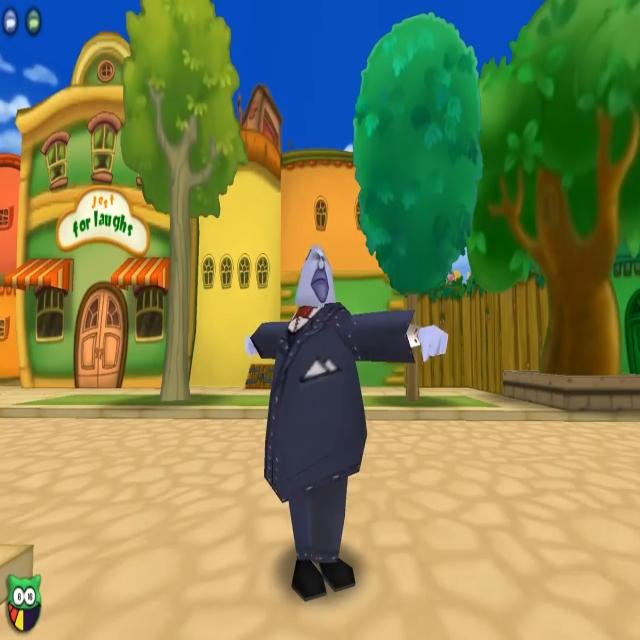bottomfeeder: (242, 194, 457, 600)
